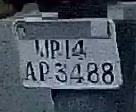1: (62, 40, 71, 62)
3: (55, 62, 68, 84)
4: (71, 38, 87, 64), (69, 62, 86, 86)
8: (100, 61, 114, 86), (87, 60, 100, 86)
A: (24, 60, 37, 81)
P: (37, 59, 50, 83), (49, 39, 60, 63)
U: (33, 38, 49, 60)
